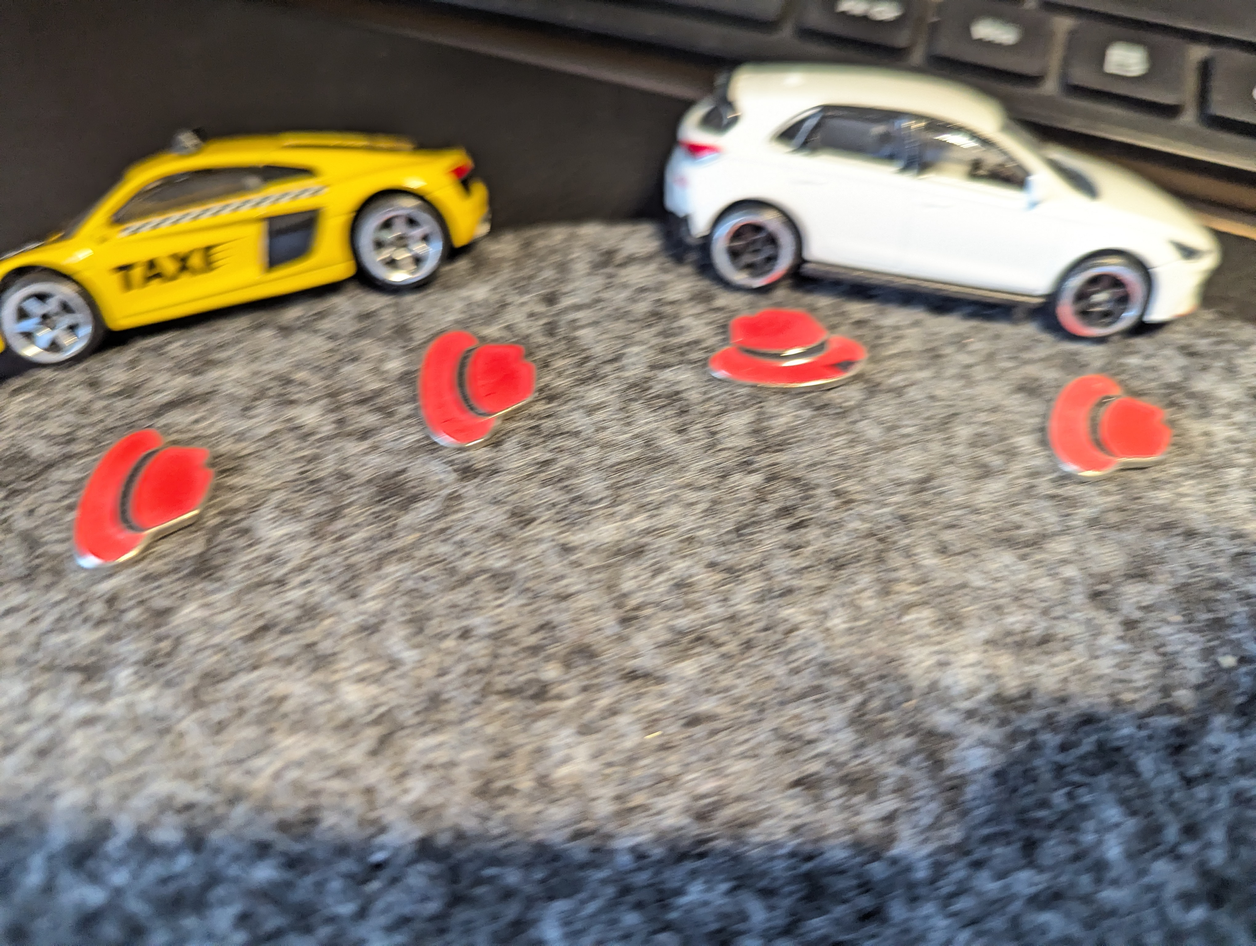Car: (657, 40, 1229, 370), (0, 106, 526, 391)
Red-Hat: (67, 411, 236, 592), (694, 294, 890, 424), (405, 309, 558, 475), (1044, 354, 1183, 506)
Scratch: (823, 353, 868, 379)
